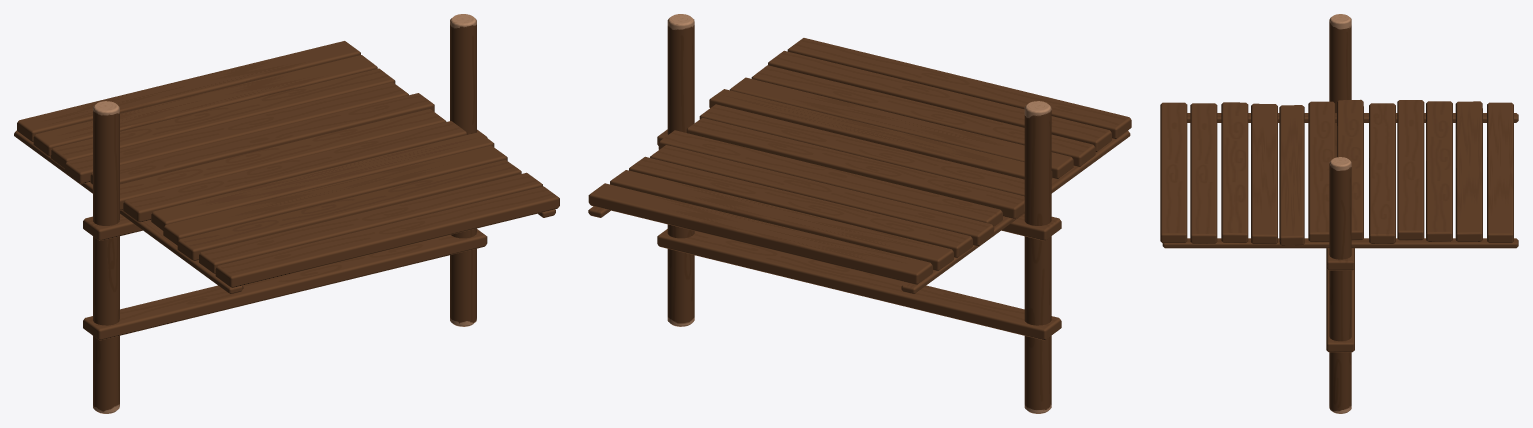
The model's file is M_Wide_Long_High_2.fbx.
3 renders of one model, left to right at view 1: azimuth 30°, elevation 25°; view 2: azimuth 150°, elevation 25°; view 3: azimuth 270°, elevation 25°, orthographic. The views are drawn at different scales.
Parts seen in each view (by area): view 1: M_Wide_Long_High_2; view 2: M_Wide_Long_High_2; view 3: M_Wide_Long_High_2.
Part boxes in pixels (x1=…): M_Wide_Long_High_2: x1=14, y1=14, x2=559, y2=413; M_Wide_Long_High_2: x1=588, y1=14, x2=1131, y2=413; M_Wide_Long_High_2: x1=1160, y1=14, x2=1518, y2=413.
Size of the model in its own units: 820 by 611 by 795.
